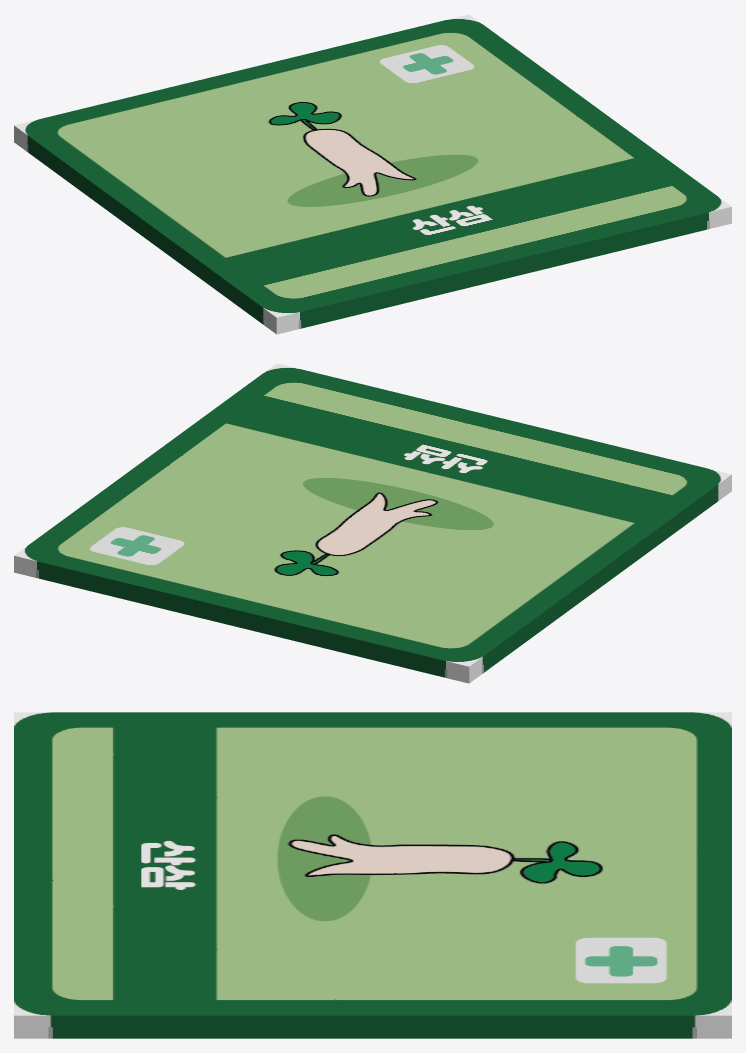
Rendered from Wild_ginsengCard.fbx.
3 views of the same model, one above another, from view 1: azimuth 30°, elevation 25°; view 2: azimuth 150°, elevation 25°; view 3: azimuth 270°, elevation 25° (orthographic). The views are drawn at different scales.
Visible parts, largest first — view 1: Front, Back; view 2: Front, Back; view 3: Front, Back.
Part boxes in pixels (x1,y1,x2,y2): Front: (14, 14, 731, 325); Back: (14, 134, 731, 334); Front: (14, 363, 731, 674); Back: (14, 483, 731, 683); Front: (14, 712, 731, 1027); Back: (14, 1027, 731, 1038).
Size of the model in its own units: 4.06 by 0.1436 by 4.06.
